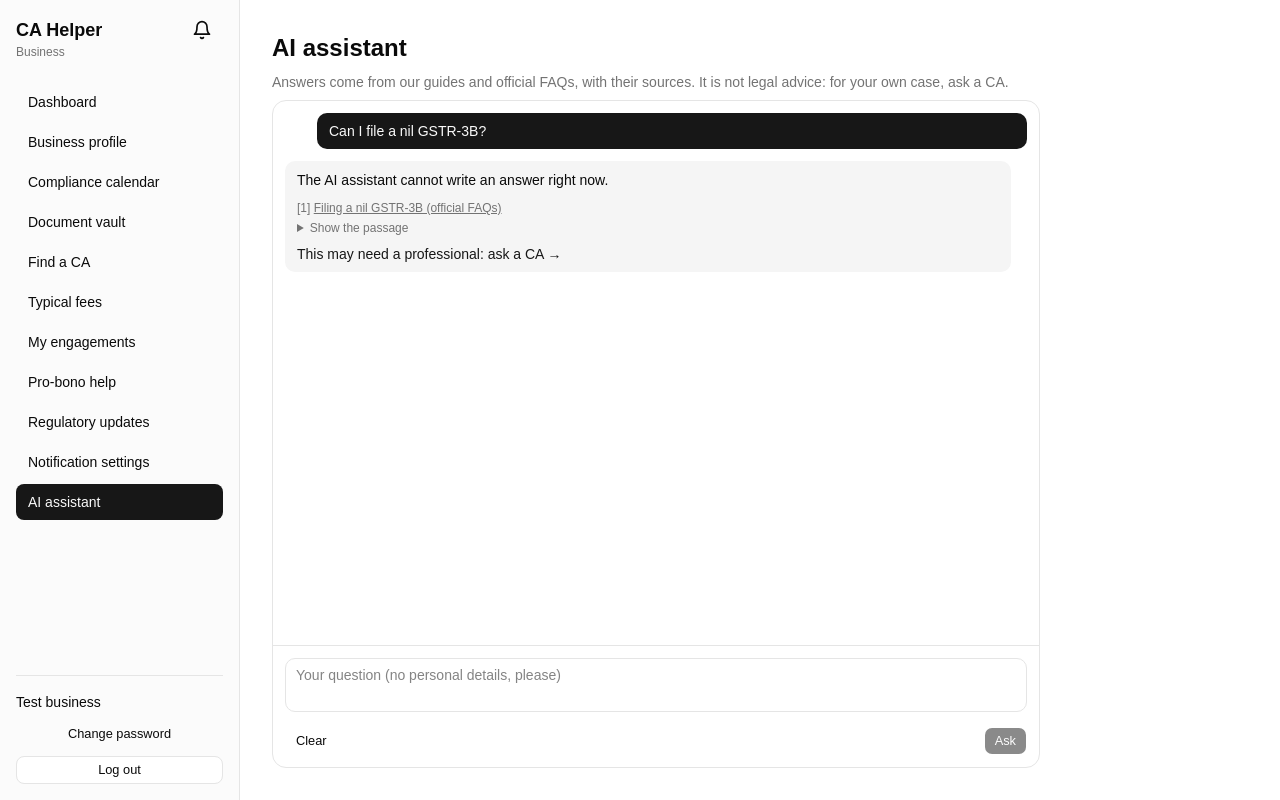
Test case: AI assistant page › suggests a CA and shows passages when the AI could not answer
This screenshot has width=1280, height=800.
Step 1. Click the heading "Show the passage" → (359, 228), box [310,221,408,235]
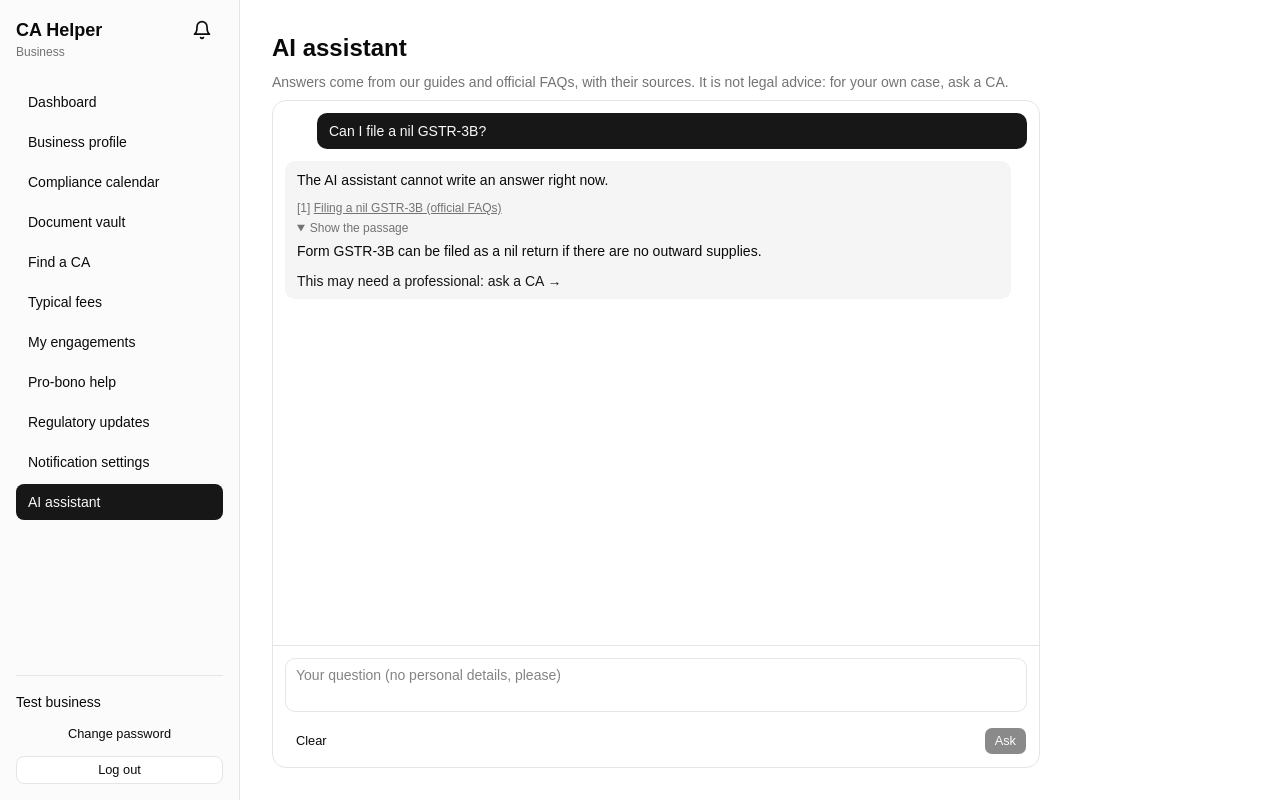
expect the text "can be filed as a nil return" is shown: met, box [297,243,762,259]
